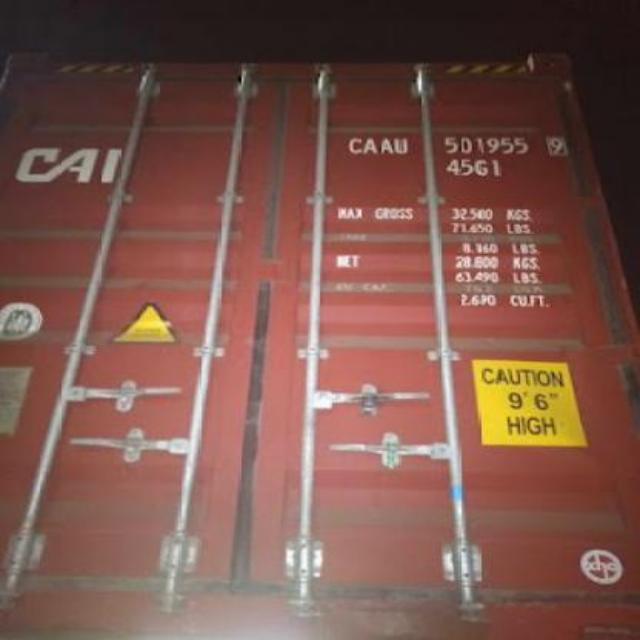0: (460, 135, 476, 155)
1: (474, 135, 486, 153)
5: (514, 136, 532, 156), (444, 135, 460, 153), (500, 136, 516, 154)
9: (546, 135, 564, 155), (486, 137, 502, 153)
A: (362, 132, 380, 156), (381, 132, 394, 154)
C: (346, 134, 362, 156)
U: (394, 132, 410, 156)
